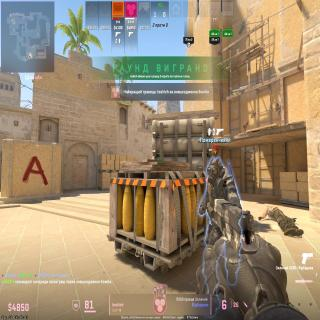CT-Body: (199, 158, 241, 215)
CT-Head: (206, 158, 223, 183)
